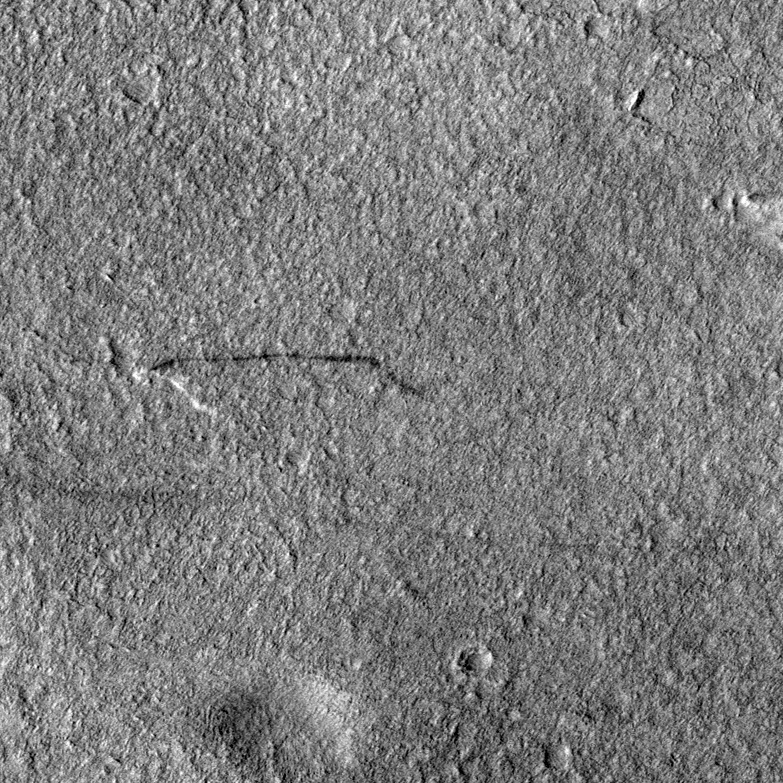dust_devil: (126, 351, 418, 421)
